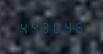four: (17, 20, 27, 34), (28, 20, 38, 34), (62, 19, 72, 33)
six: (73, 19, 83, 33)
three: (40, 20, 50, 34)
zero: (51, 20, 61, 33)
